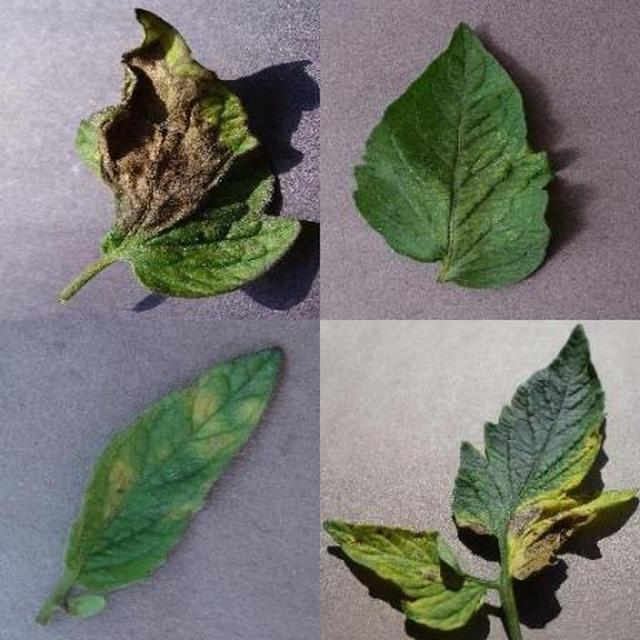Late Blight Leaf: (253, 219, 640, 640)
